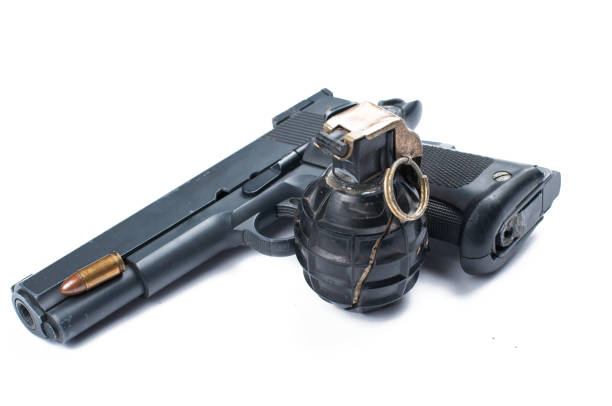e1: (293, 99, 436, 316)
